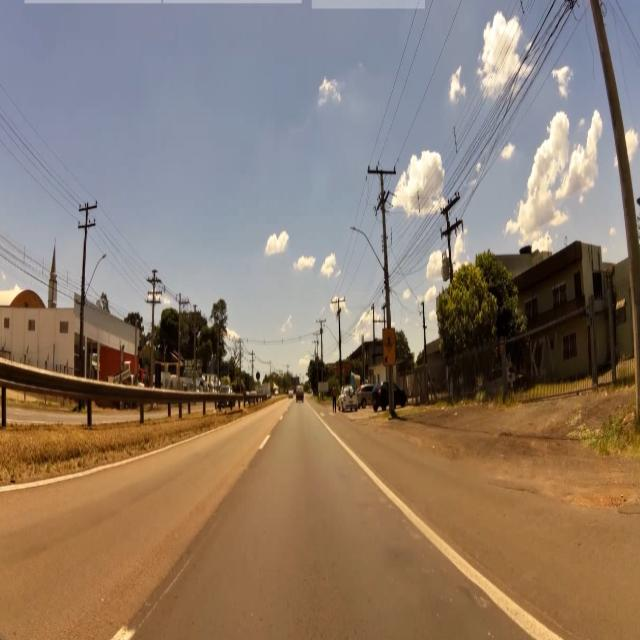A-32b: (384, 330, 394, 352)
